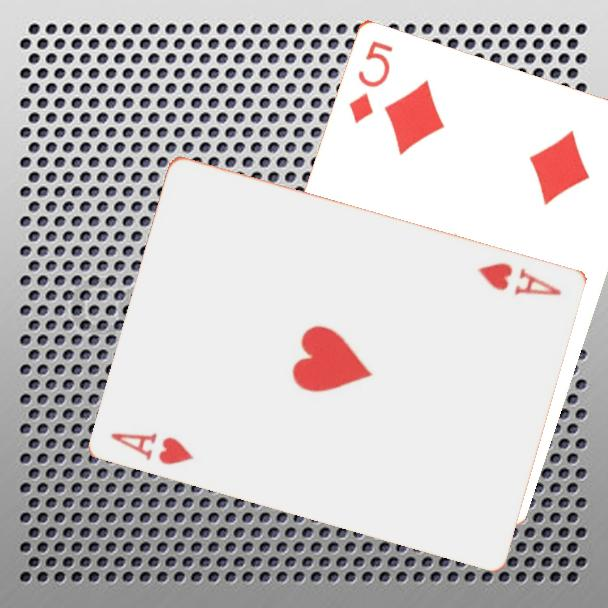d05: (345, 36, 396, 126)
h01: (475, 258, 565, 298), (108, 428, 198, 468)
